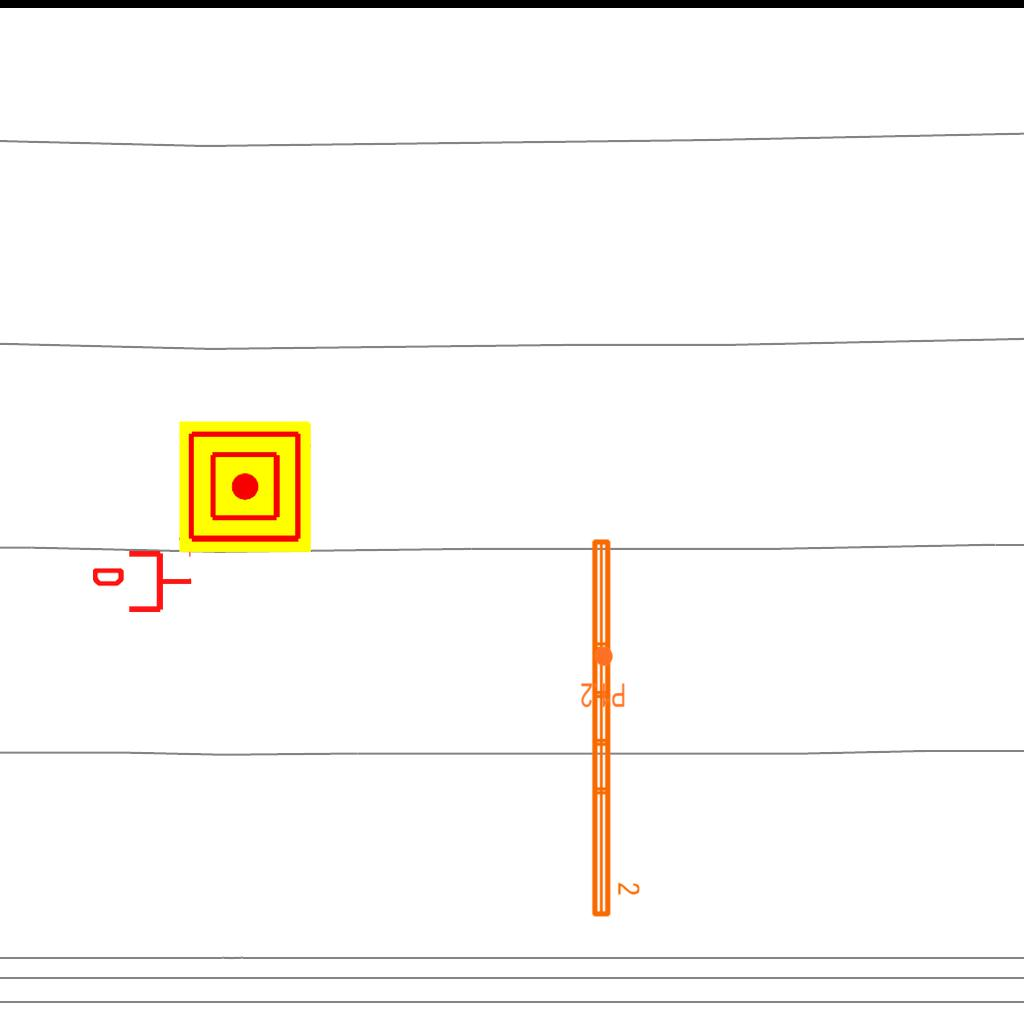Ambulanz_Pendelleuchte_LED: (586, 534, 642, 921)
Datenanschluss_einfach: (93, 547, 193, 616)
Downlight_LED_Einbauleuchten_Flur: (580, 645, 626, 709)
NAM-Nichtautomatischer_Melder: (179, 421, 311, 553)
